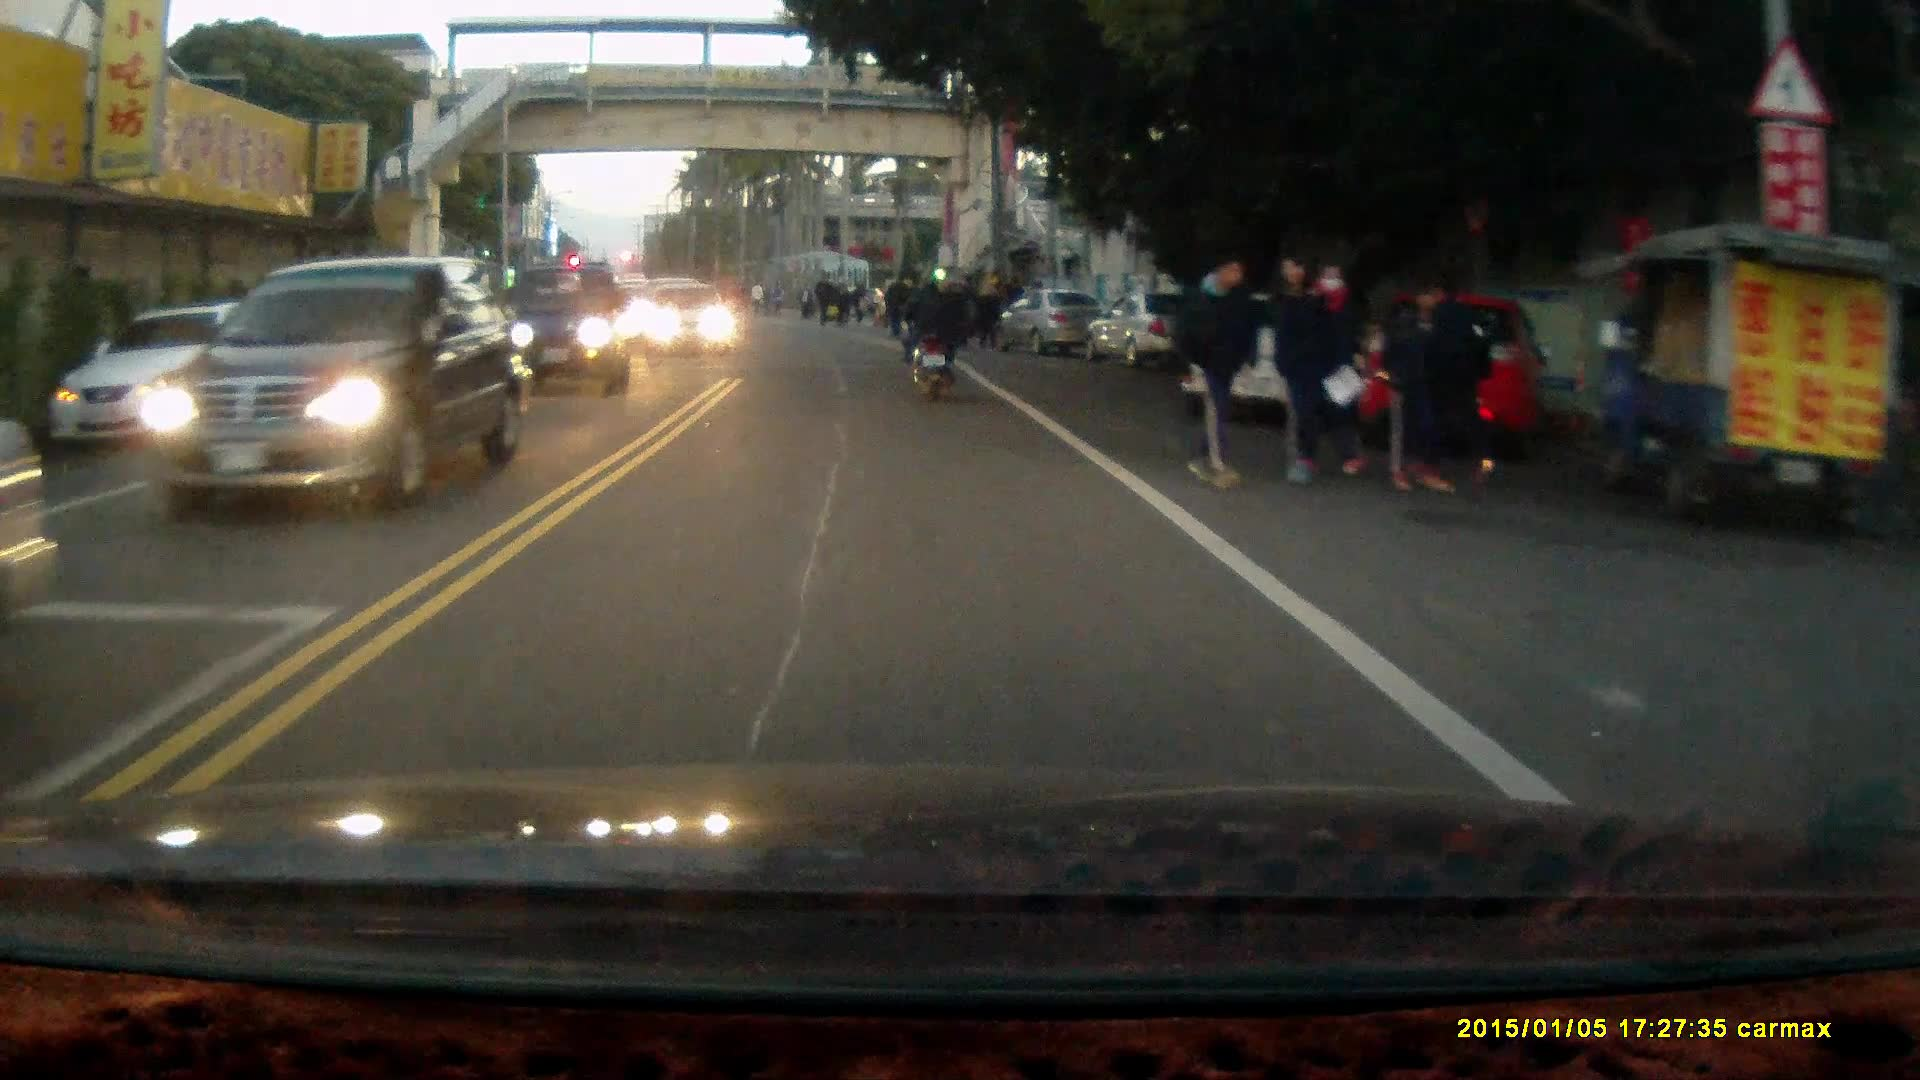pedestrian: (1172, 245, 1260, 492), (1382, 282, 1464, 497), (1267, 250, 1340, 492), (1419, 272, 1497, 494), (1294, 257, 1364, 478), (954, 270, 983, 354), (974, 282, 1003, 349)
rider: (892, 269, 961, 404)
vehicle: (151, 254, 531, 522), (1326, 288, 1545, 463), (1175, 284, 1394, 428), (485, 268, 633, 399), (1087, 289, 1205, 369), (994, 291, 1111, 358), (647, 286, 741, 361)
